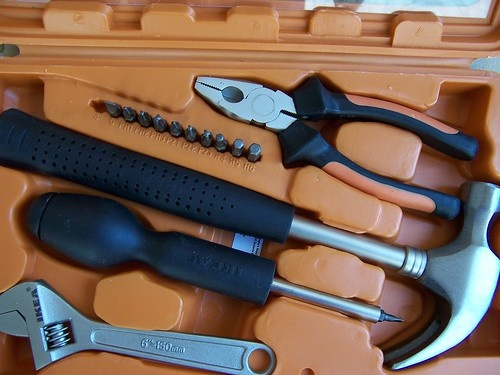hammer: (1, 168, 500, 347)
